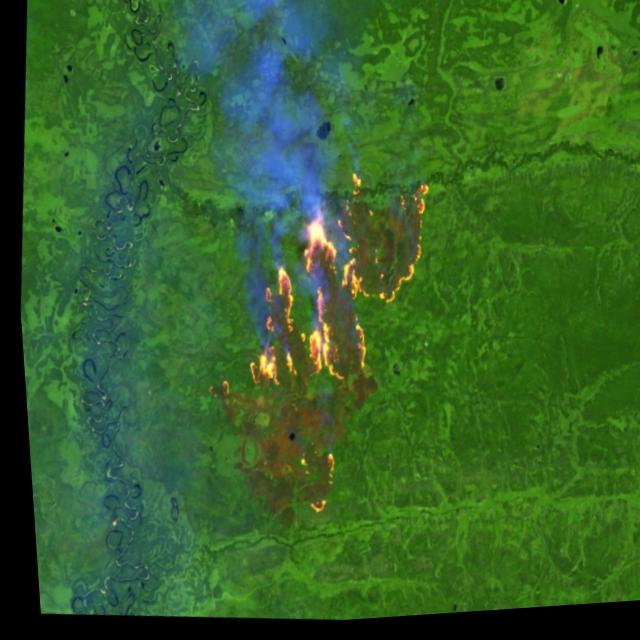fire: (230, 160, 437, 405), (285, 452, 337, 523), (196, 376, 228, 407)
